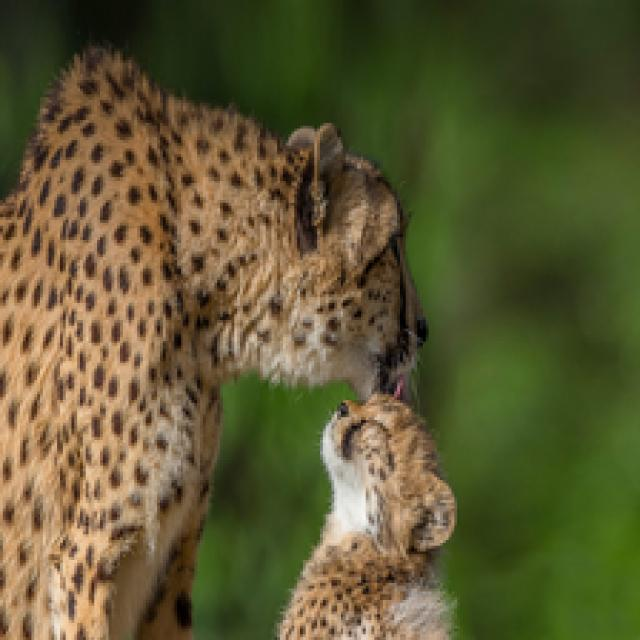cheetah: (0, 23, 409, 640), (287, 378, 457, 640)
